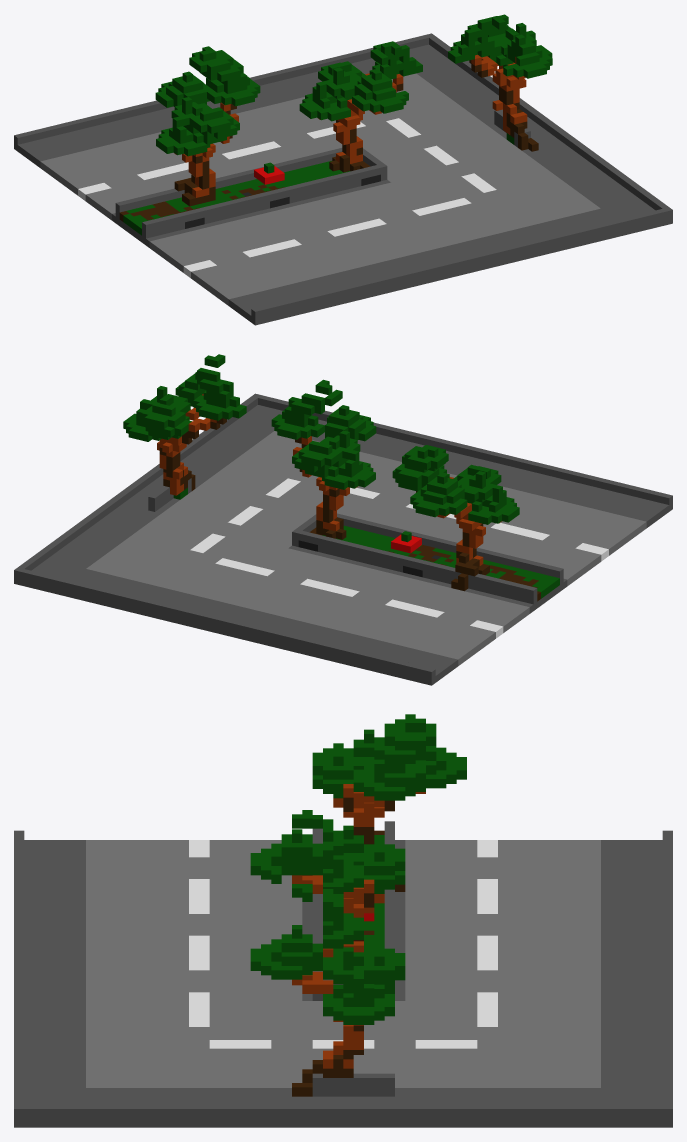
File: StreetDeadEndWinWin.obj
The picture shows the model from 3 angles, top to bottom: view 1: azimuth 30°, elevation 25°; view 2: azimuth 150°, elevation 25°; view 3: azimuth 270°, elevation 25°; orthographic projection. The views are drawn at different scales.
Parts seen in each view (by area): view 1: StreetDeadEndWinWin; view 2: StreetDeadEndWinWin; view 3: StreetDeadEndWinWin.
Part boxes in pixels (x1,y1,x2,y2): StreetDeadEndWinWin: (14,14,672,325); StreetDeadEndWinWin: (14,354,672,685); StreetDeadEndWinWin: (14,714,672,1127).
Size of the model in its own units: 64 by 21 by 64.
Materials: 1 (1 with a texture image).
